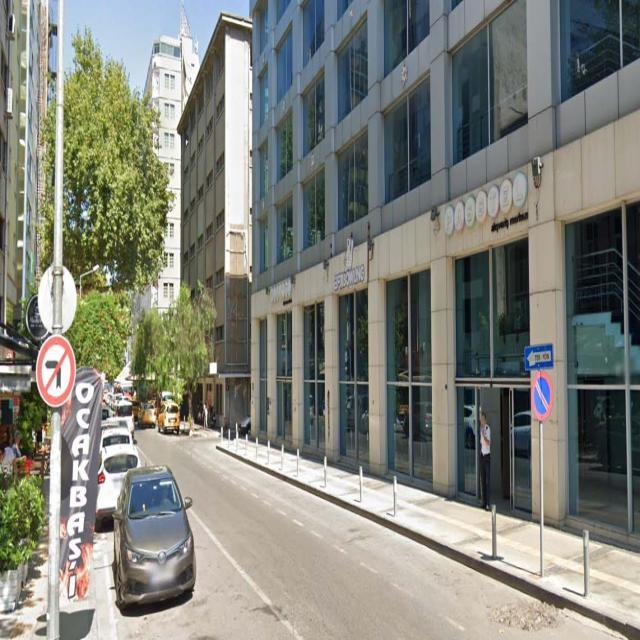parkyasak: (532, 373, 552, 424)
soladonulmez: (39, 336, 74, 406)
